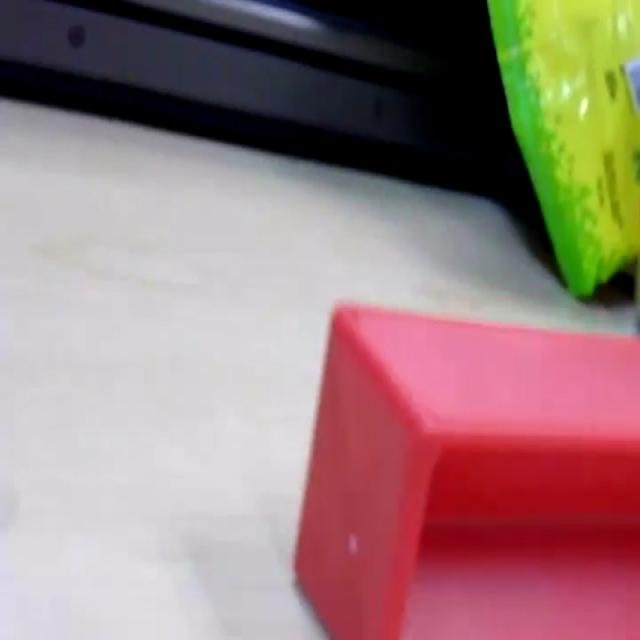red_block: (292, 297, 638, 636)
